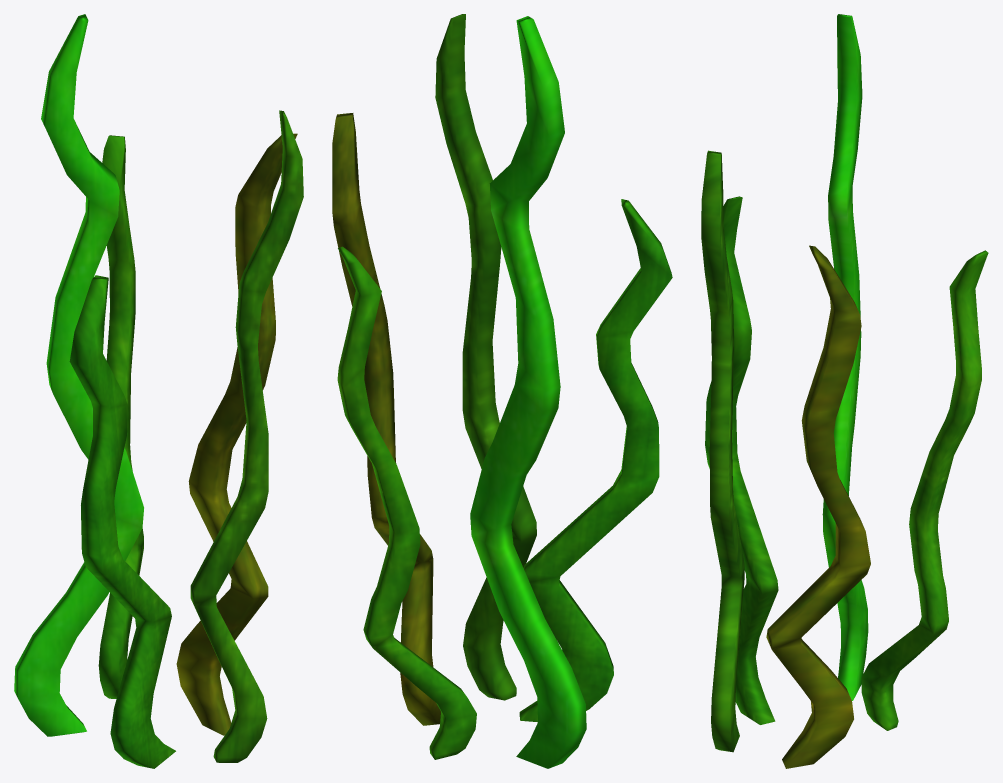
Rendered from VEG0410021.fbx.
3 renders of one model, left to right at view 1: azimuth 30°, elevation 25°; view 2: azimuth 150°, elevation 25°; view 3: azimuth 270°, elevation 25°, orthographic. The views are drawn at different scales.
Visible parts, largest first — view 1: smVEG0410021; view 2: smVEG0410021; view 3: smVEG0410021.
Boxes of the visible parts, x1,y1,x2,y2 form: smVEG0410021: (14,14,303,768); smVEG0410021: (332,14,672,768); smVEG0410021: (701,14,988,768).
Size of the model in its own units: 131 by 329 by 123.
Materials: 1 (1 with a texture image).
